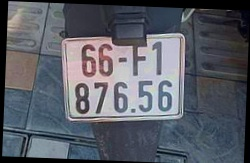Bien-so: (58, 19, 195, 130)
